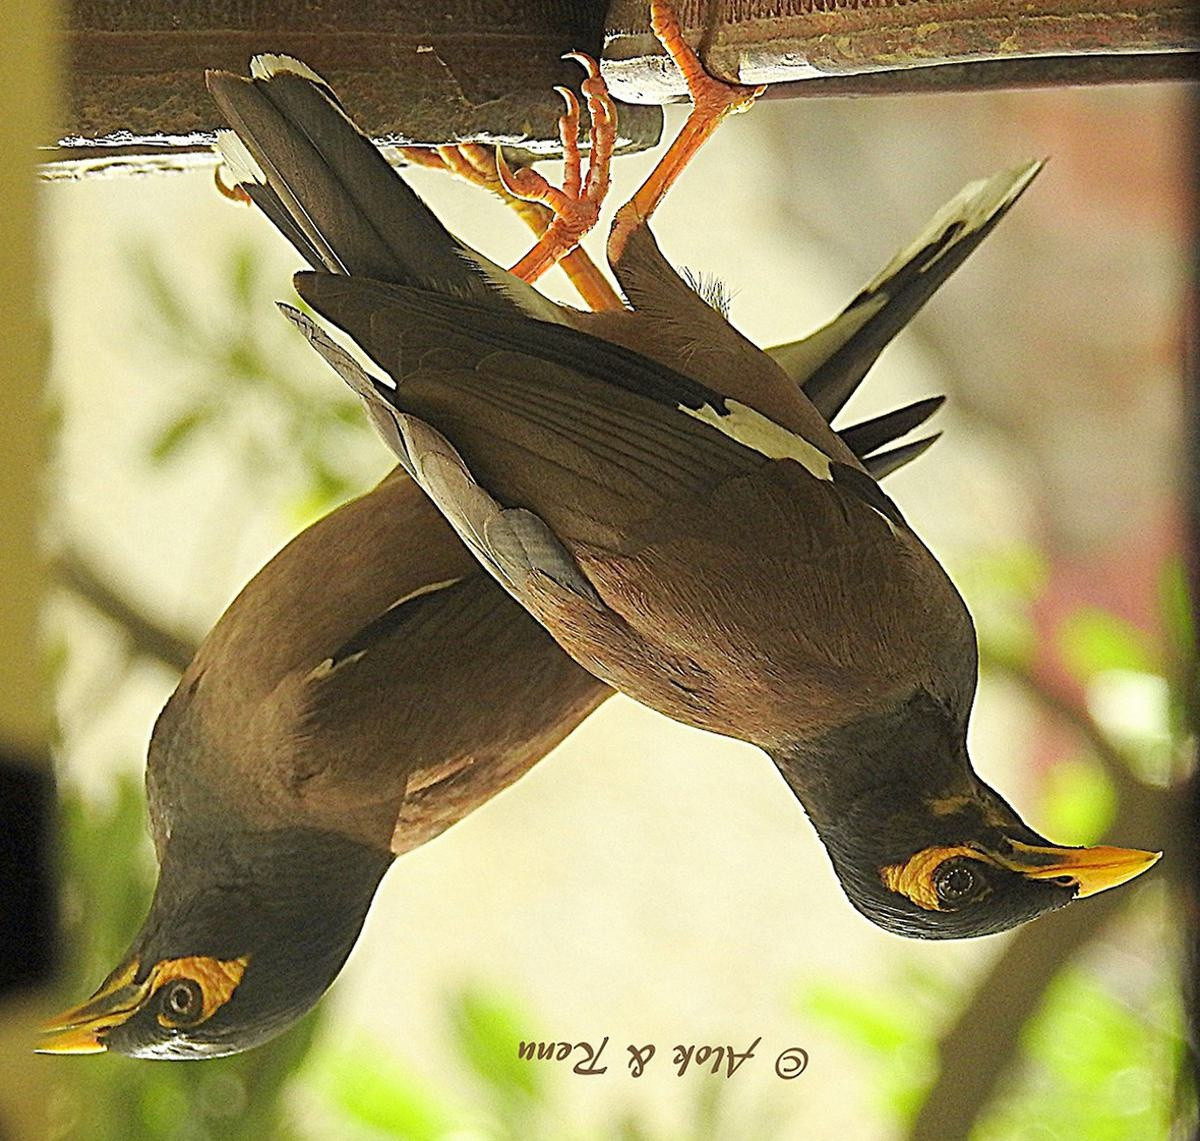myna: (305, 97, 1181, 962), (52, 517, 562, 1091)
